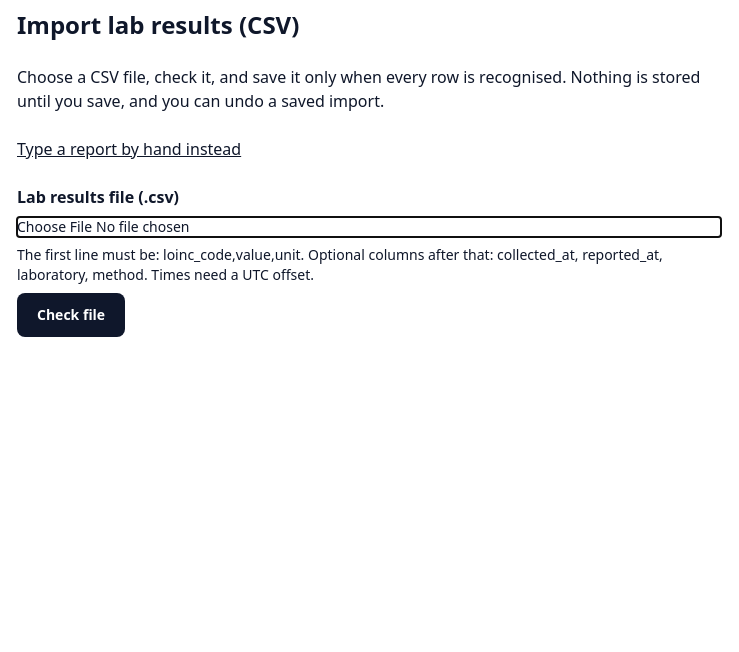
Test: a not recognised row is shown as text with its reason and blocks Save
Earlier steps of the test are not shown.
Click the button "Check file".
click(71, 315)  # box [17,293,125,337]
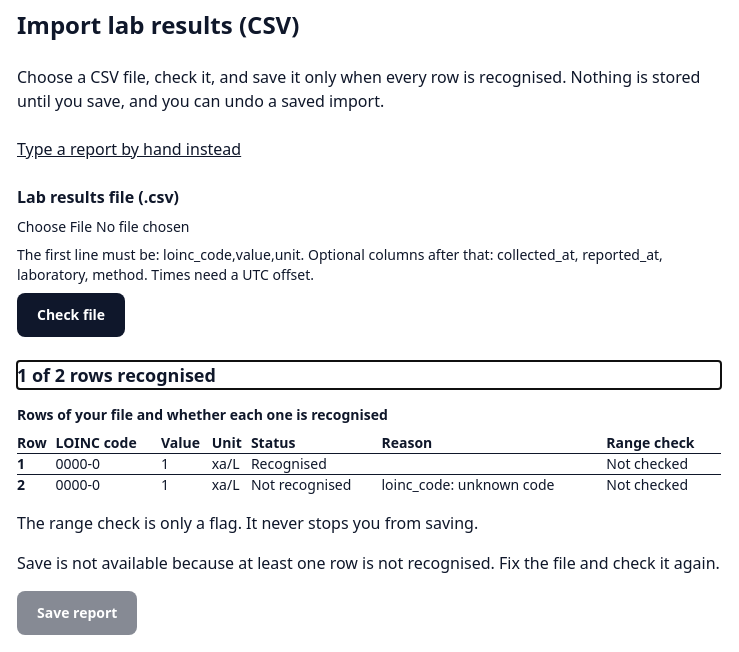
expect the text "Not recognised" is shown: met, box [251,474,382,495]
expect the text "loinc_code: unknown code" is shown: met, box [382,474,606,495]
expect the heading "1 of 2 rows recognised" is shown: met, box [17,363,216,387]
